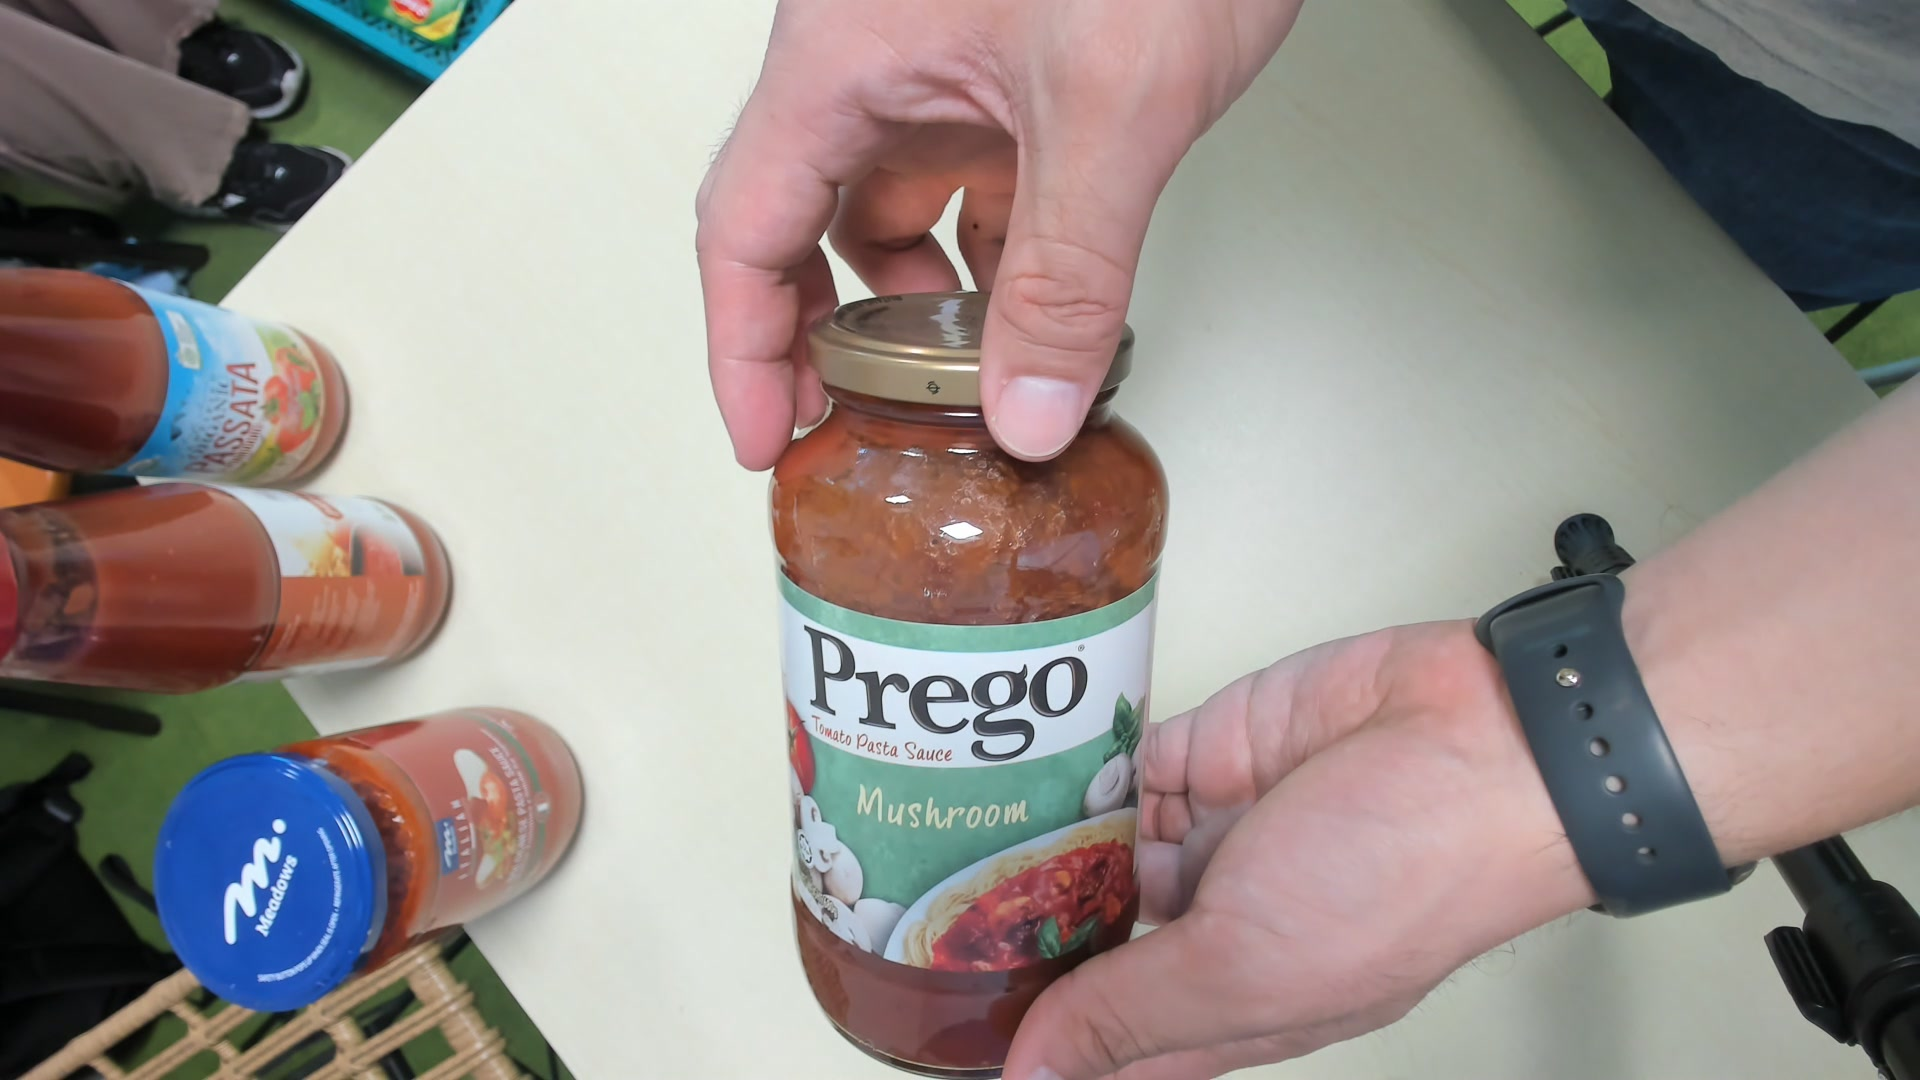PastaSauce_600-699g_Halal_NonHealthy: (769, 295, 1145, 1080)
